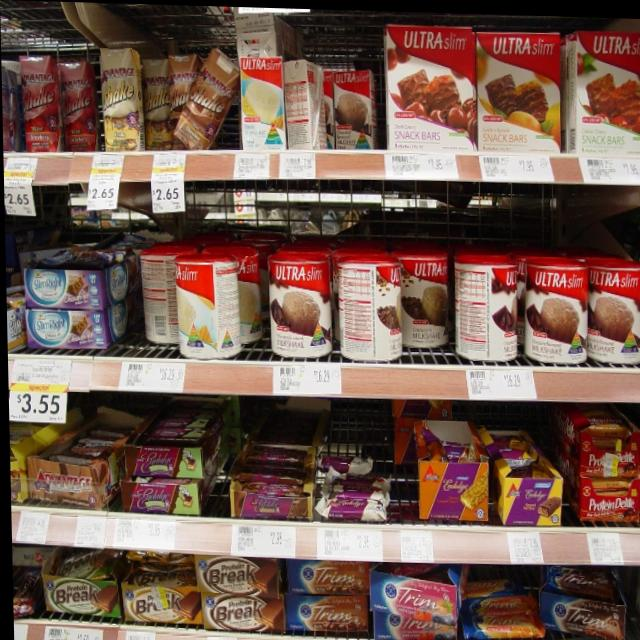q199: (523, 254, 593, 367), (452, 252, 525, 354), (270, 252, 332, 360), (338, 255, 401, 359), (586, 260, 640, 370), (402, 246, 451, 347)
